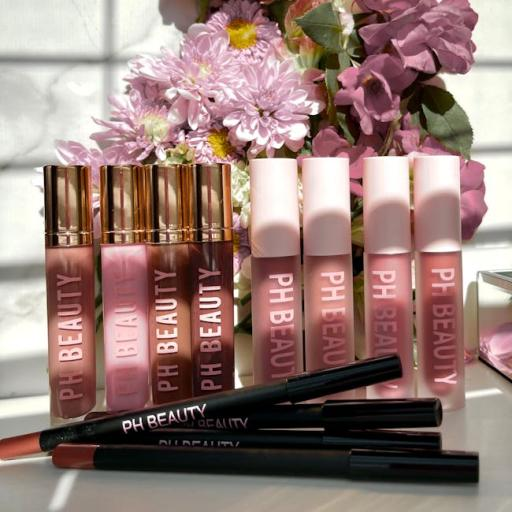lipstick: (0, 355, 401, 458), (52, 445, 478, 482), (44, 166, 96, 422), (414, 156, 464, 410), (363, 156, 414, 398), (250, 159, 303, 383), (101, 165, 149, 411), (184, 164, 234, 396), (145, 164, 192, 404), (302, 158, 354, 370)
